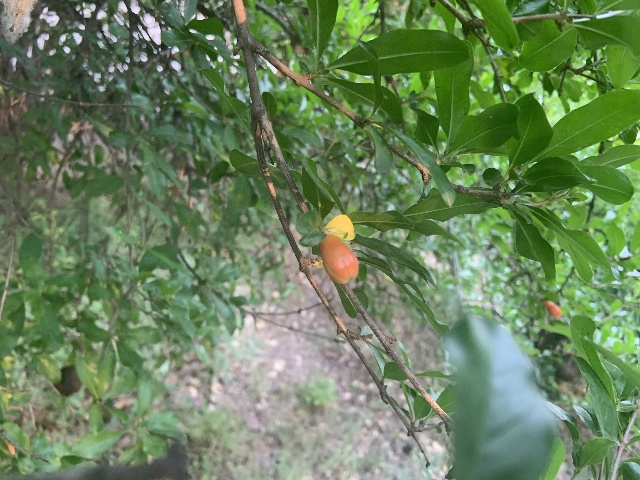bud: (318, 233, 358, 284), (543, 300, 562, 318)
